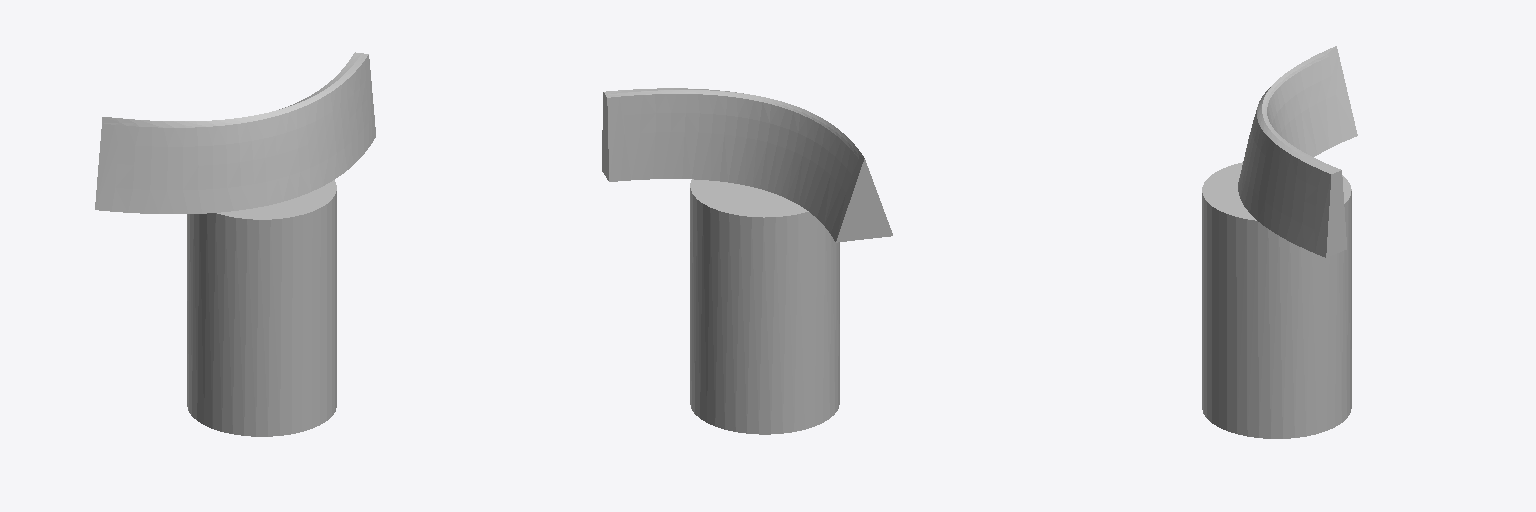
The model's file is rotator_curve.obj.
3 views of the same model, side by side, from view 1: azimuth 30°, elevation 25°; view 2: azimuth 150°, elevation 25°; view 3: azimuth 270°, elevation 25° (orthographic).
Visible parts, largest first — view 1: Solid1; view 2: Solid1; view 3: Solid1.
Part boxes in pixels (left/top/right/bottom): Solid1: left=95, top=52, right=375, bottom=436; Solid1: left=602, top=88, right=892, bottom=434; Solid1: left=1202, top=46, right=1357, bottom=438.
Size of the model in its own units: 0.1106 by 0.11 by 0.0521.